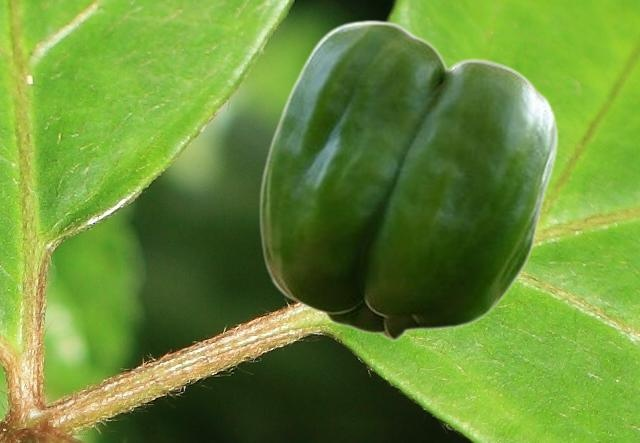bell_pepper: (258, 19, 557, 340)
